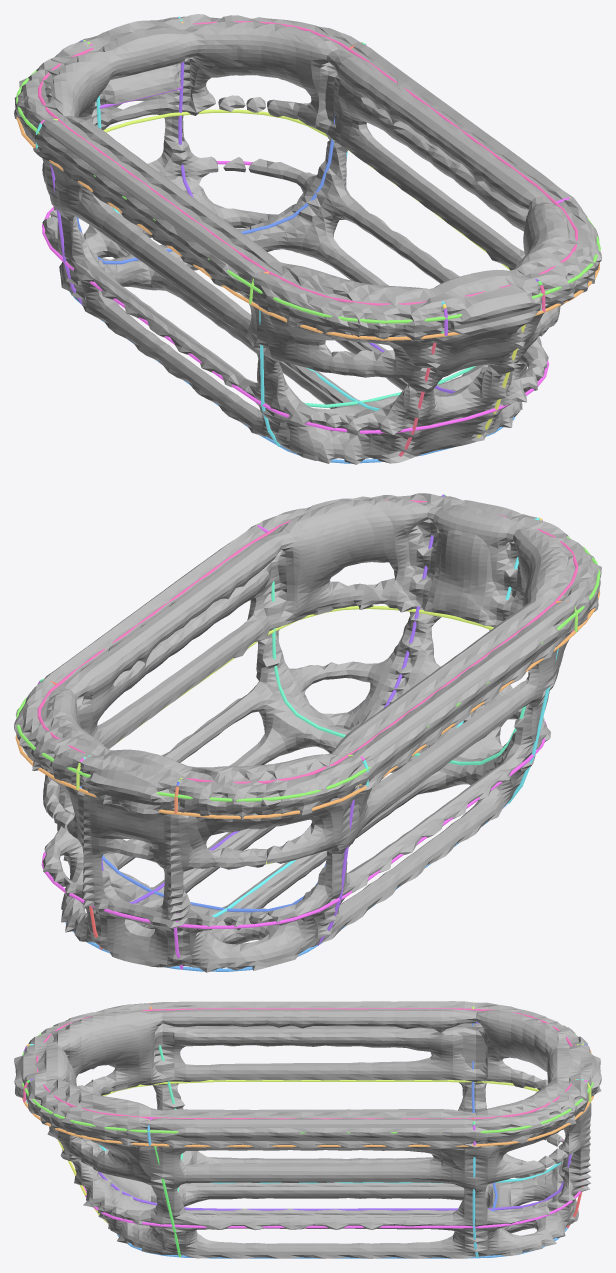
File: flowrep_bathtub.gltf
The picture shows the model from 3 angles, top to bottom: view 1: azimuth 30°, elevation 25°; view 2: azimuth 150°, elevation 25°; view 3: azimuth 270°, elevation 25°; orthographic projection. The views are drawn at different scales.
Size of the model in its own units: 0.45 by 0.2733 by 0.8815.
